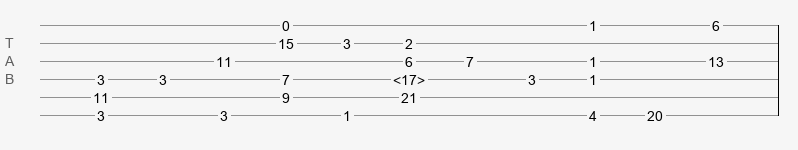0: (282, 18, 290, 28)
1: (343, 108, 351, 118), (589, 18, 597, 28), (589, 54, 597, 64), (589, 72, 597, 82)
11: (93, 90, 109, 100), (216, 54, 232, 64)
13: (708, 54, 724, 64)
15: (278, 36, 294, 46)
2: (405, 36, 413, 46)
20: (647, 108, 663, 118)
21: (401, 90, 417, 100)
3: (97, 108, 105, 118), (97, 72, 105, 82), (159, 72, 167, 82), (220, 108, 228, 118), (343, 36, 351, 46), (528, 72, 536, 82)
4: (589, 108, 597, 118)
6: (405, 54, 413, 64), (712, 18, 720, 28)
7: (282, 72, 290, 82), (466, 54, 474, 64)
9: (282, 90, 290, 100)
harmonic: (393, 72, 425, 82)
